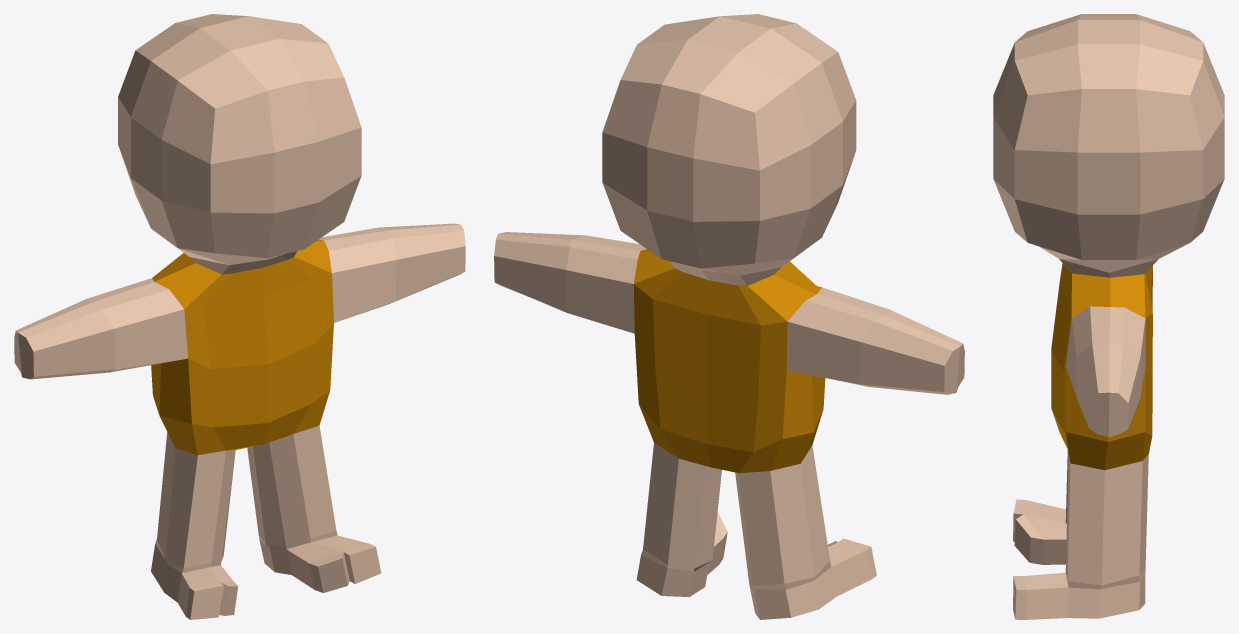
The model's file is monk_uv 1.fbx.
3 views of the same model, side by side, from view 1: azimuth 30°, elevation 25°; view 2: azimuth 150°, elevation 25°; view 3: azimuth 270°, elevation 25° (orthographic). The views are drawn at different scales.
Visible parts, largest first — view 1: Cube.001; view 2: Cube.001; view 3: Cube.001.
Boxes of the visible parts, x1=… form: Cube.001: x1=14, y1=14, x2=465, y2=619; Cube.001: x1=494, y1=14, x2=964, y2=619; Cube.001: x1=993, y1=14, x2=1224, y2=619.
Bounding box in the file's own units: 8.7 × 10.19 × 3.85.
